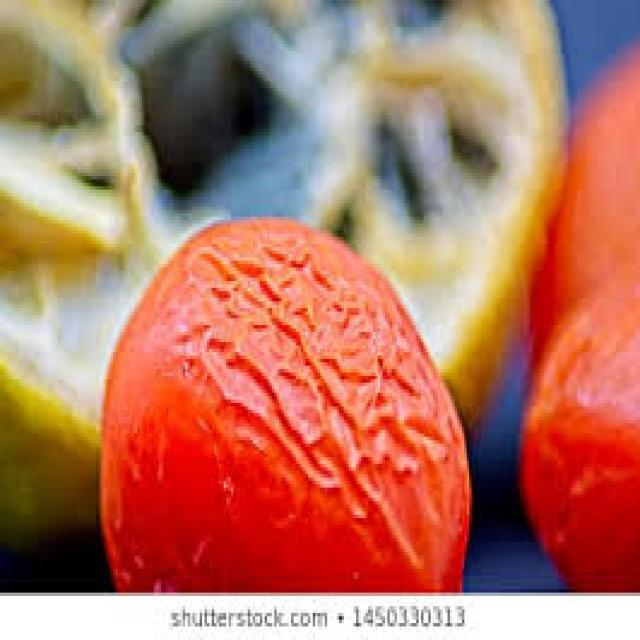BiologicalWaste: (9, 14, 640, 596)
